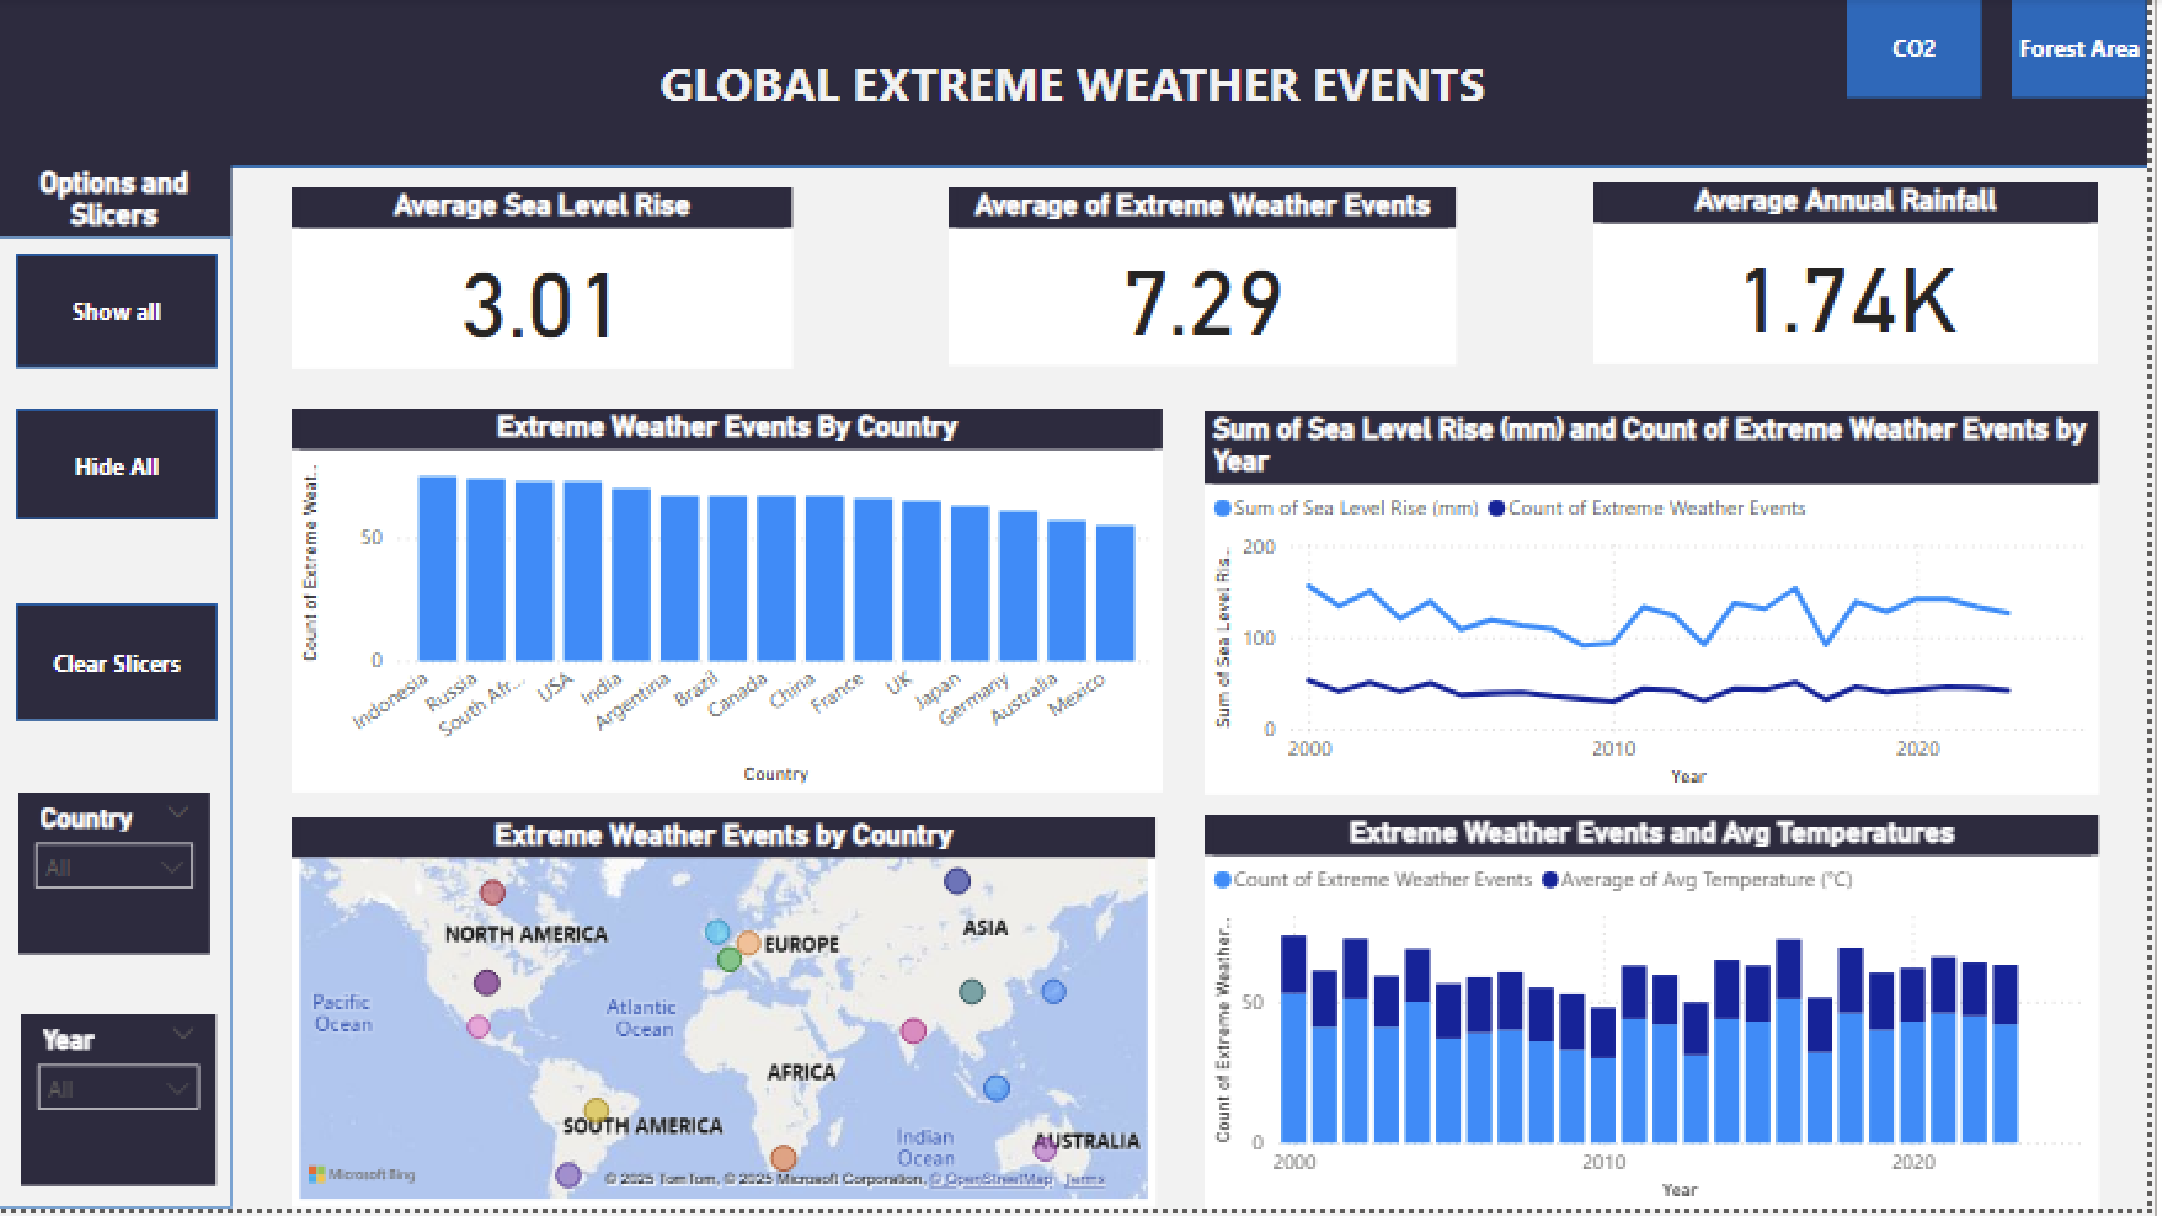

This screenshot's page, from the dashboard's own definition file:
{"tool":"powerbi","page":{"name":" Global Climate Extreme Weather","canvas":[1280,720],"ordinal":1},"visuals":[{"type":"columnChart","title":"Extreme Weather Events By Country","fields":{"Category":["climate_change_dataset.Country"],"Y":["CountNonNull(climate_change_dataset.Extreme Weather Events)"]},"box":[176,244,518,228],"z":0},{"type":"shape","box":[0,0,1280,100.6],"z":1000},{"type":"lineChart","fields":{"Category":["climate_change_dataset.Year"],"Y":["Sum(climate_change_dataset.Sea Level Rise (mm))","CountNonNull(climate_change_dataset.Extreme Weather Events)"]},"box":[718,246,532,228],"z":2000},{"type":"map","title":"Extreme Weather Events by Country","fields":{"Category":["climate_change_dataset.Country"],"Series":["climate_change_dataset.Country"],"Size":["CountNonNull(climate_change_dataset.Extreme Weather Events)"]},"box":[176,488,514,232],"z":3000},{"type":"lineStackedColumnComboChart","title":"Extreme Weather Events and Avg Temperatures","fields":{"Category":["climate_change_dataset.Year"],"Y":["CountNonNull(climate_change_dataset.Extreme Weather Events)","Avg(climate_change_dataset.Avg Temperature (°C))"]},"box":[718,486,532,234],"z":4000},{"type":"shape","box":[0,100.5,139.8,620.3],"z":5000},{"type":"card","title":"Average Sea Level Rise","fields":{"Values":["Avg(climate_change_dataset.Sea Level Rise (mm))"]},"box":[176,112,298,108],"z":7000},{"type":"card","title":"Average of Extreme Weather Events","fields":{"Values":["Avg(climate_change_dataset.Extreme Weather Events)"]},"box":[566,112,302,106],"z":8000},{"type":"card","title":"Average Annual Rainfall","fields":{"Values":["Avg(climate_change_dataset.Rainfall (mm))"]},"box":[950,110,300,108],"z":9000},{"type":"shape","box":[1100.1,0,80.4,59.7],"z":10000},{"type":"shape","box":[1198.7,0,80.4,59.7],"z":11000},{"type":"shape","title":"Options and Slicers","box":[0,100,140,620],"z":12000},{"type":"shape","box":[12,152,120,68],"z":13000},{"type":"shape","box":[12,244,120,66],"z":14000},{"type":"shape","box":[12,360,120,70],"z":15000},{"type":"slicer","fields":{"Values":["climate_change_dataset.Country"]},"box":[13,472.2,114.2,96],"z":16000},{"type":"slicer","fields":{"Values":["climate_change_dataset.Year"]},"box":[14,604,116,102],"z":17000}]}

Visuals, with their boxes in screenshot pixels (x1, y1, x2, y2), scaled from the page's 1280x720 canvas onto the 2162x1216 screenshot:
"Extreme Weather Events By Country" columnChart: box=[297, 412, 1172, 797]
shape: box=[0, 0, 2161, 170]
lineChart - climate_change_dataset.Year x Sum(climate_change_dataset.Sea Level Rise (mm)): box=[1213, 415, 2111, 801]
"Extreme Weather Events by Country" map: box=[297, 824, 1165, 1215]
"Extreme Weather Events and Avg Temperatures" lineStackedColumnComboChart: box=[1213, 821, 2111, 1215]
shape: box=[0, 170, 236, 1215]
"Average Sea Level Rise" card: box=[297, 189, 801, 372]
"Average of Extreme Weather Events" card: box=[956, 189, 1466, 368]
"Average Annual Rainfall" card: box=[1605, 186, 2111, 368]
shape: box=[1858, 0, 1994, 101]
shape: box=[2025, 0, 2160, 101]
"Options and Slicers" shape: box=[0, 169, 236, 1215]
shape: box=[20, 257, 223, 372]
shape: box=[20, 412, 223, 524]
shape: box=[20, 608, 223, 726]
slicer - climate_change_dataset.Country: box=[22, 797, 215, 960]
slicer - climate_change_dataset.Year: box=[24, 1020, 220, 1192]
